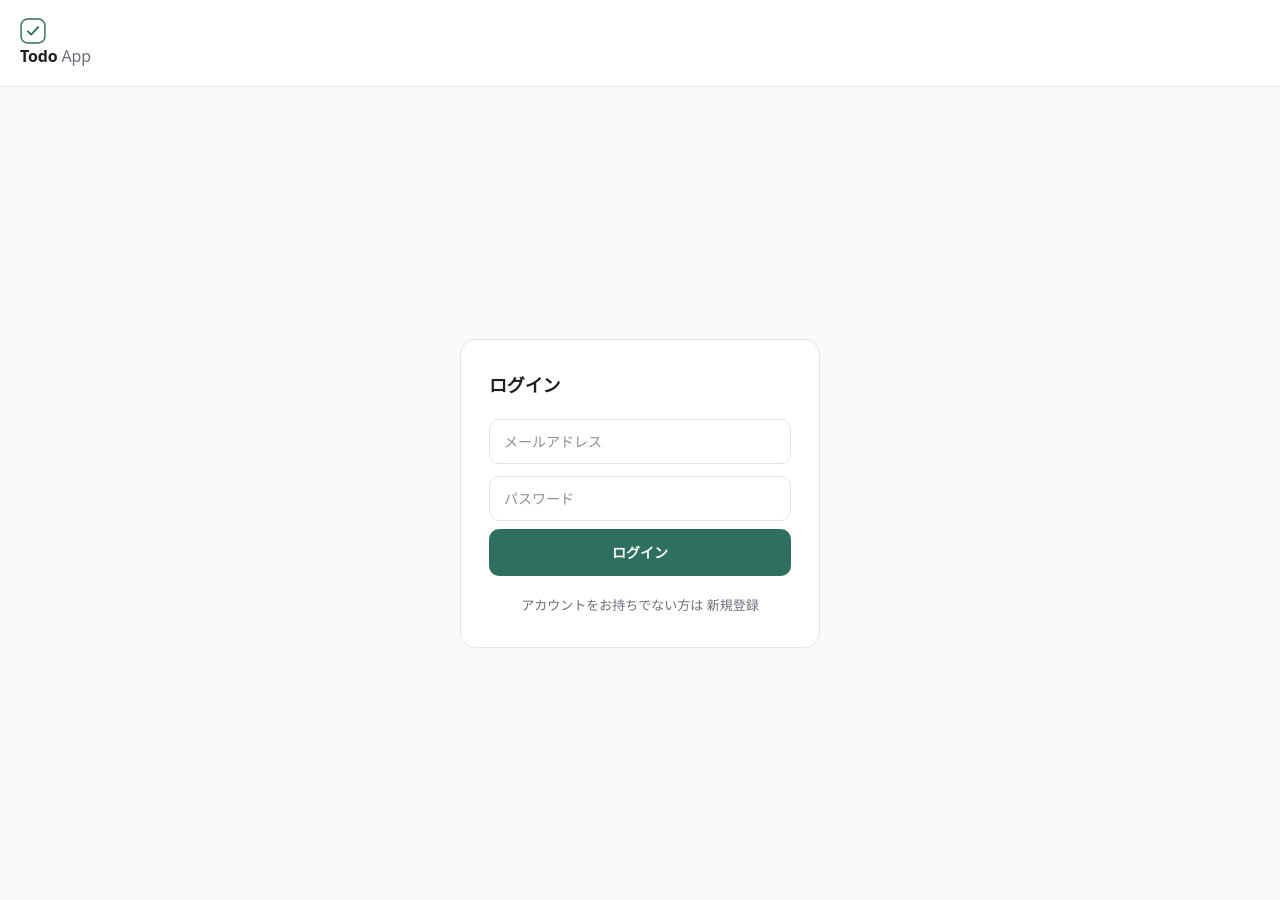
Test: LoginForm › login mode › 不正な形式のメールで送信すると "メールの形式が正しくありません" が表示される
This screenshot has width=1280, height=900.
Step 1. Type "invalid-email" into the field with placeholder "メールアドレス" → (640, 441), box left=489, top=419, right=791, bottom=464
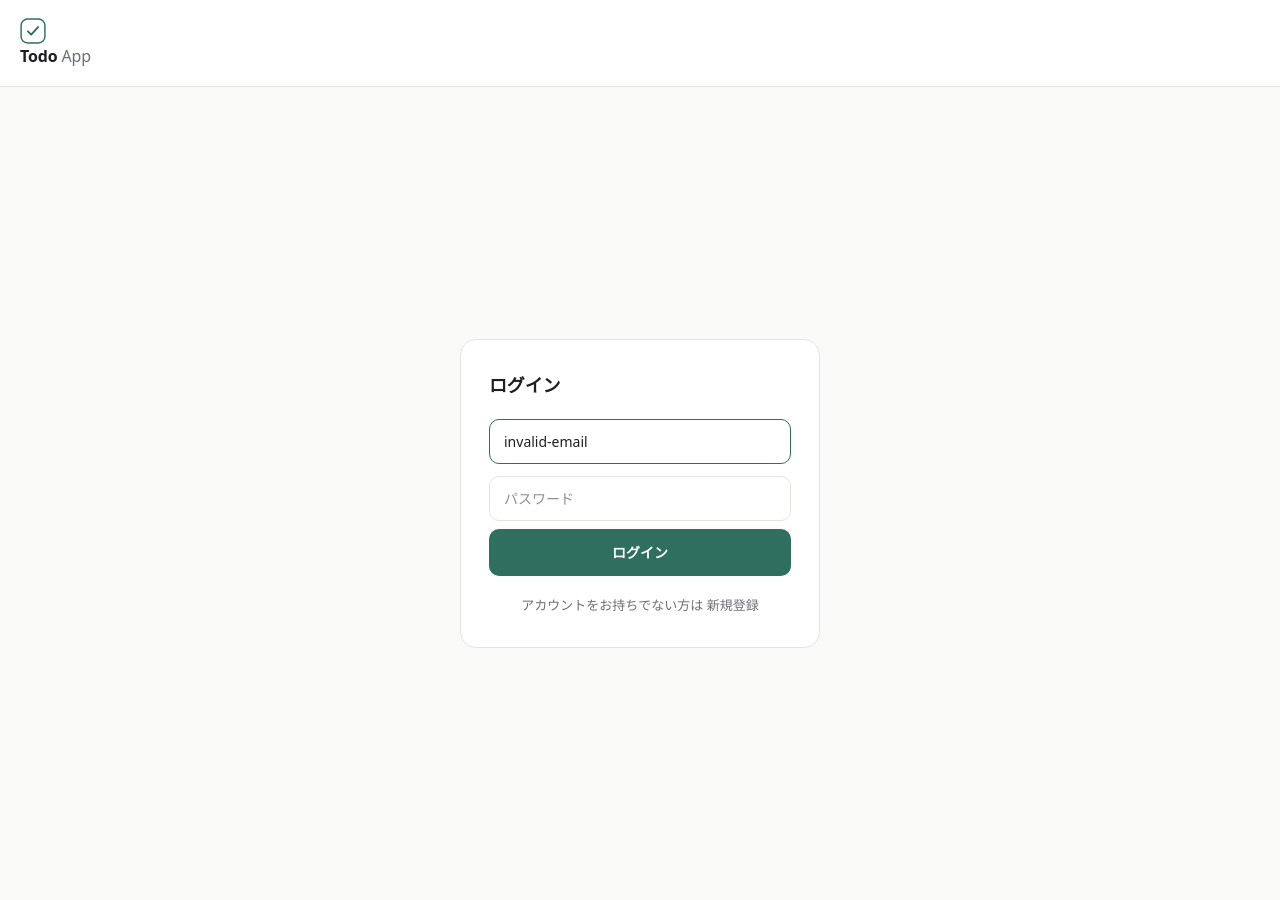
Step 2. Click the button "ログイン" → (640, 552), box left=489, top=529, right=791, bottom=576
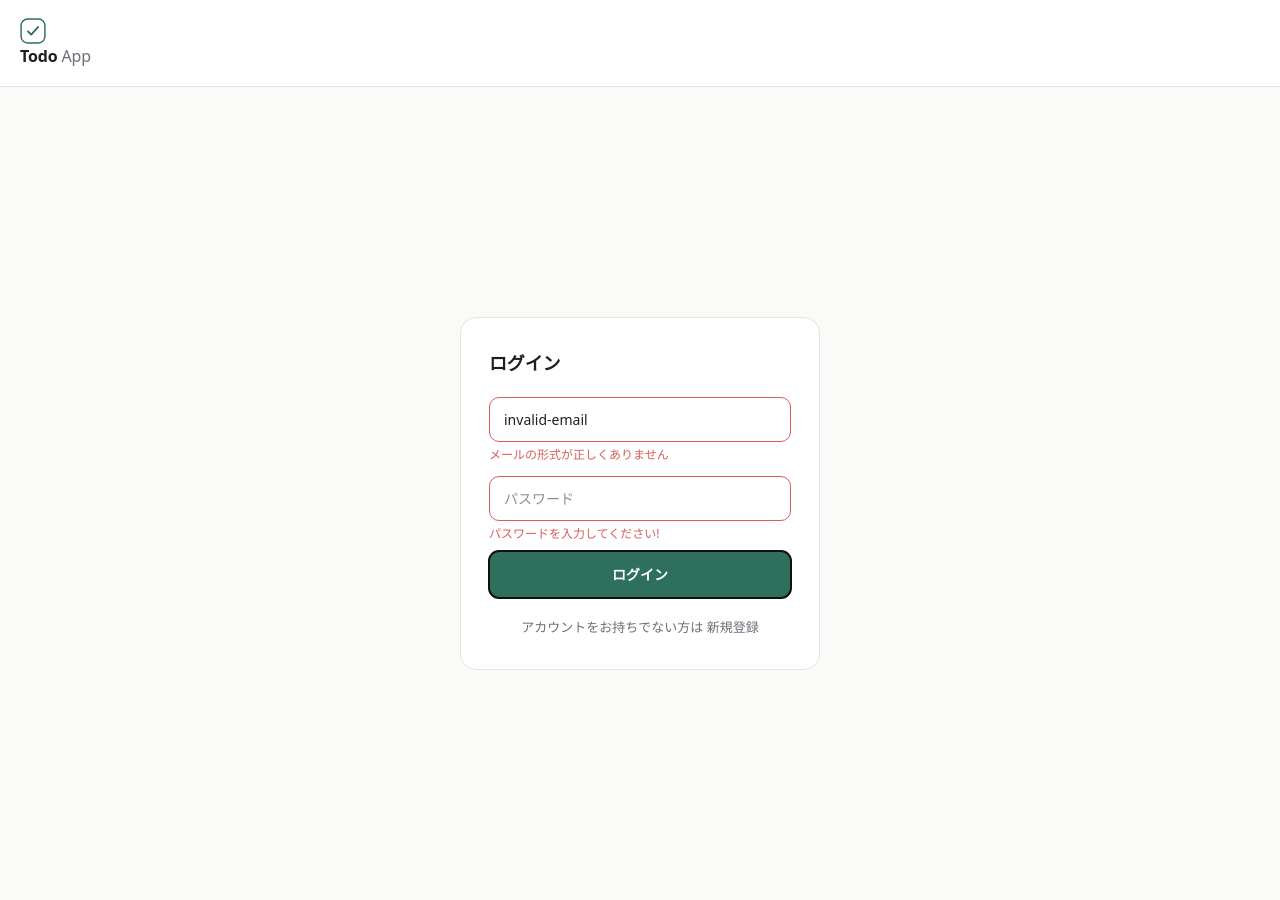
Now the text "メールの形式が正しくありません" is shown, box left=489, top=446, right=669, bottom=463
